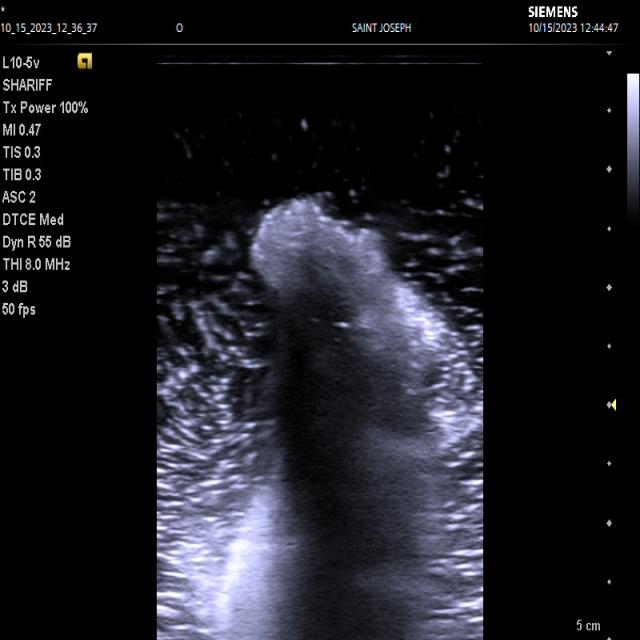tissue: (212, 194, 478, 640)
